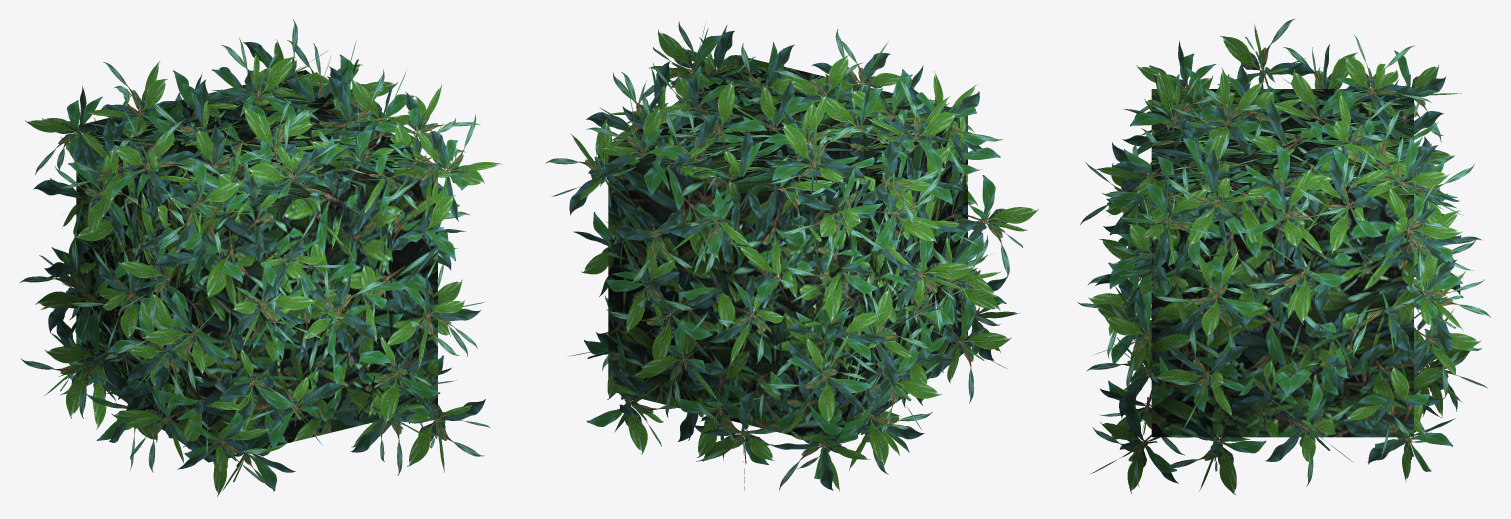
The model's file is HedgeSmallExp.obj.
3 views of the same model, side by side, from view 1: azimuth 30°, elevation 25°; view 2: azimuth 150°, elevation 25°; view 3: azimuth 270°, elevation 25° (orthographic).
Visible parts, largest first — view 1: HedgeSmall_HedgeSmall_Default_OBJ; view 2: HedgeSmall_HedgeSmall_Default_OBJ; view 3: HedgeSmall_HedgeSmall_Default_OBJ.
Boxes of the visible parts, <box> form: HedgeSmall_HedgeSmall_Default_OBJ: <box>20,19,502,496</box>; HedgeSmall_HedgeSmall_Default_OBJ: <box>545,21,1038,491</box>; HedgeSmall_HedgeSmall_Default_OBJ: <box>1077,19,1490,494</box>.
Bounding box in the file's own units: 25.68 × 25.5 × 25.89.
1 material, 1 textured.
